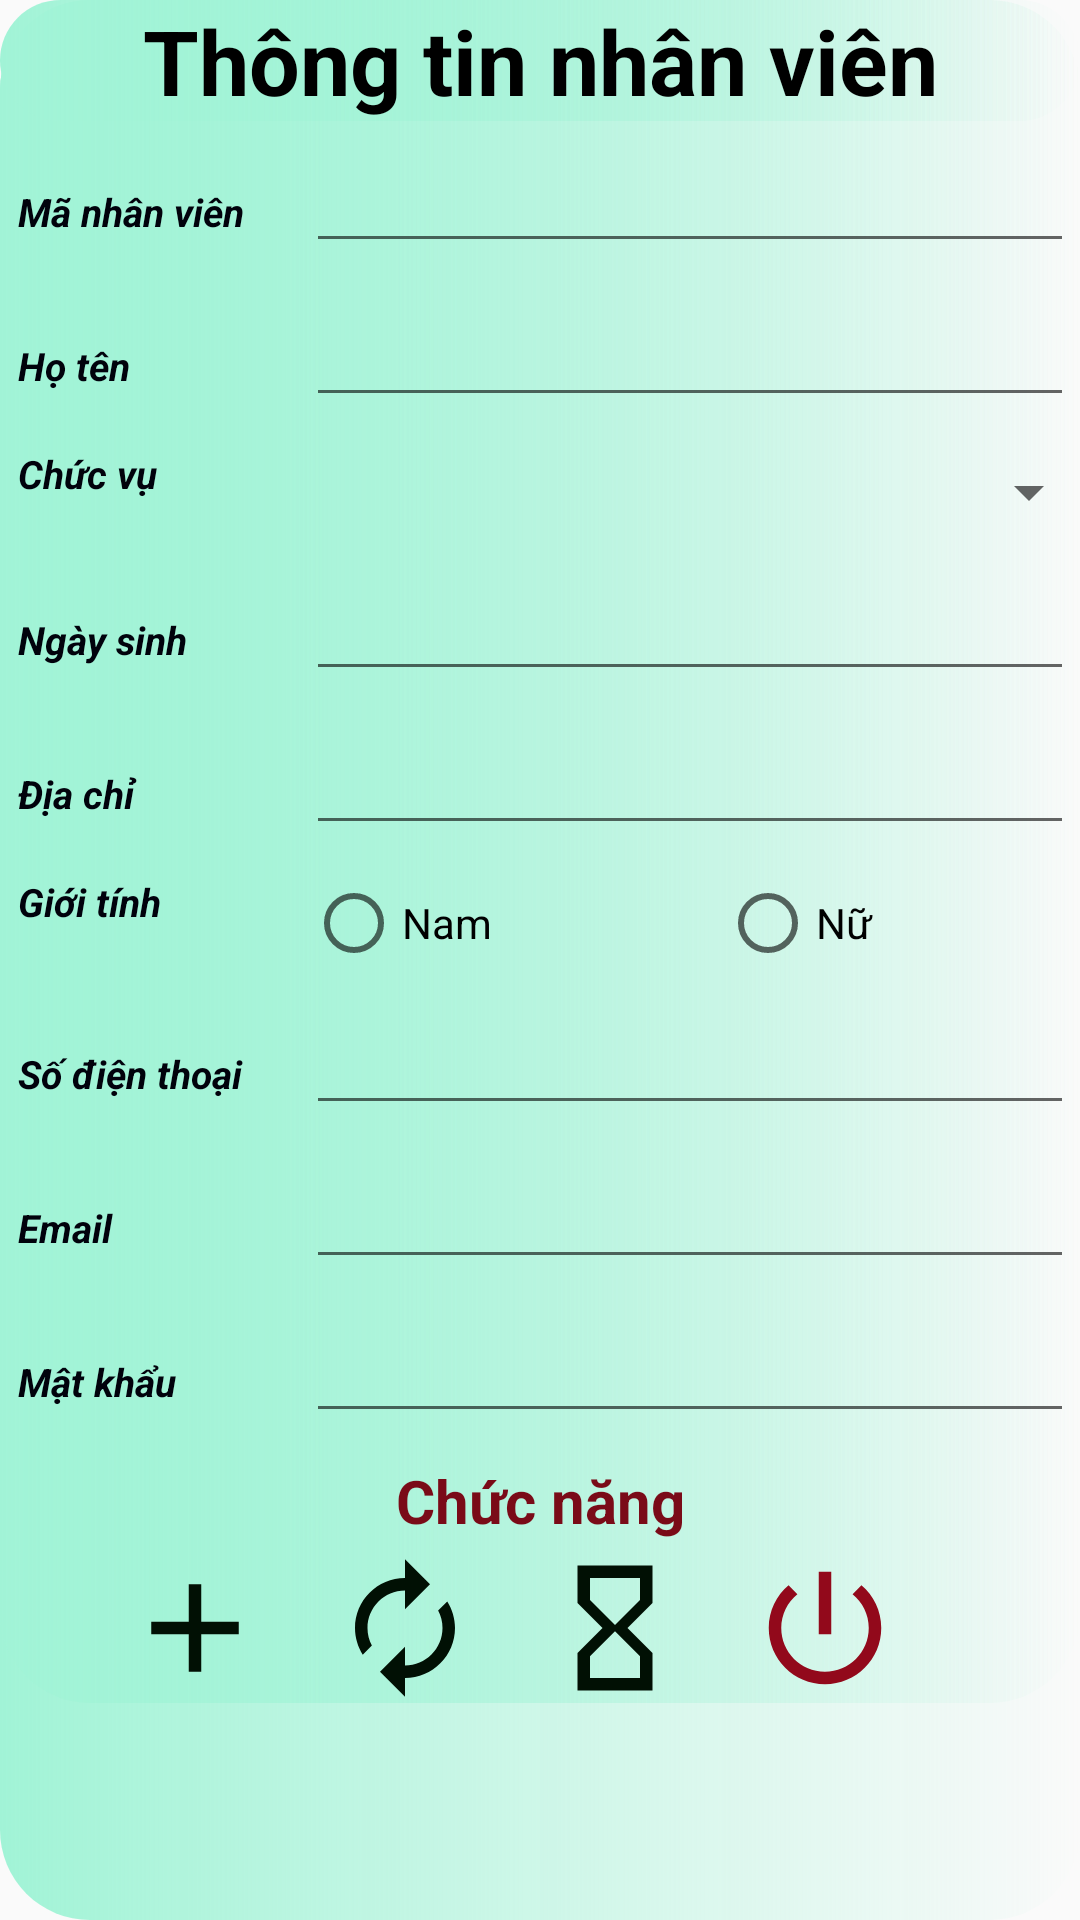

Where to tap for icons on this 1080 x 1920 app screen, as point (x, y):
add: point (195, 1628)
hourglass empty: point (615, 1628)
power settings: point (816, 1628)
update: point (405, 1628)
